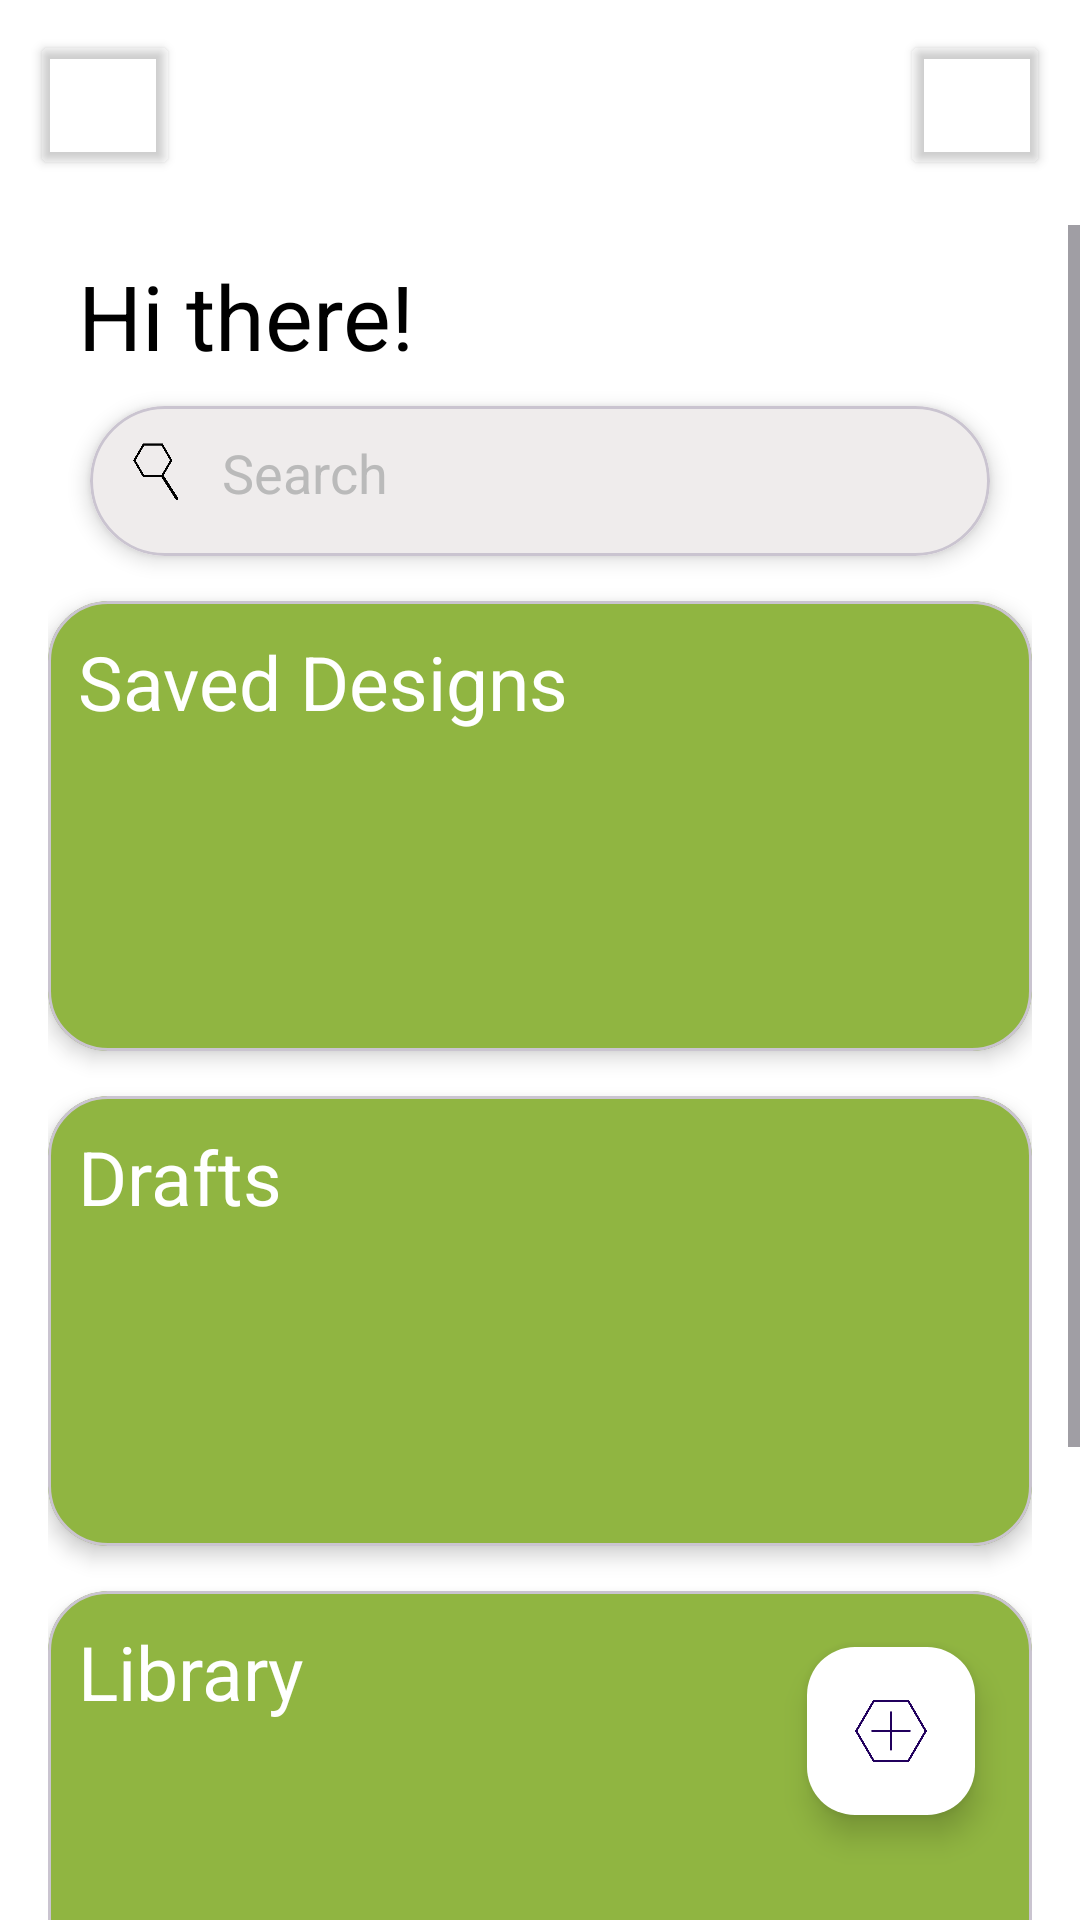

Named icons in this screenshot (1080w x 1920h) and their centers, [x,y]:
add: [891,1731]
